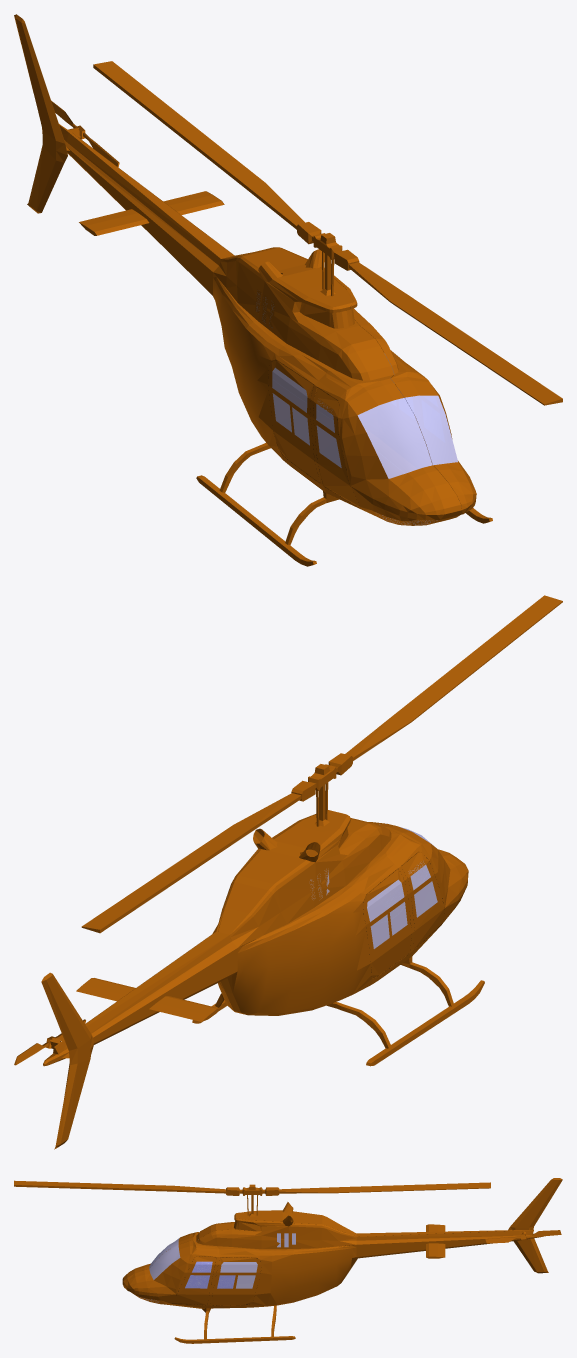
The model's file is helico.fbx.
The picture shows the model from 3 angles, top to bottom: view 1: azimuth 30°, elevation 25°; view 2: azimuth 150°, elevation 25°; view 3: azimuth 270°, elevation 25°; orthographic projection. The views are drawn at different scales.
Visible parts, largest first — view 1: helico_body, helice_avant; view 2: helico_body, helice_avant; view 3: helico_body, helice_avant, Helice_arriere.
Part boxes in pixels (x1,y1,x2,y2): helico_body: (14,14,492,566); helice_avant: (93,61,562,405); helico_body: (41,810,484,1149); helice_avant: (81,595,562,933); helico_body: (122,1178,562,1343); helice_avant: (14,1180,490,1219); Helice_arriere: (485,1230,561,1243).
Bounding box in the file's own units: 2.46 × 3.46 × 12.4.
